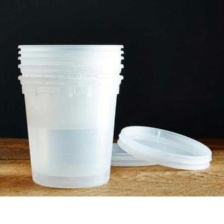plastic_box: (12, 37, 131, 194), (100, 120, 217, 175)
